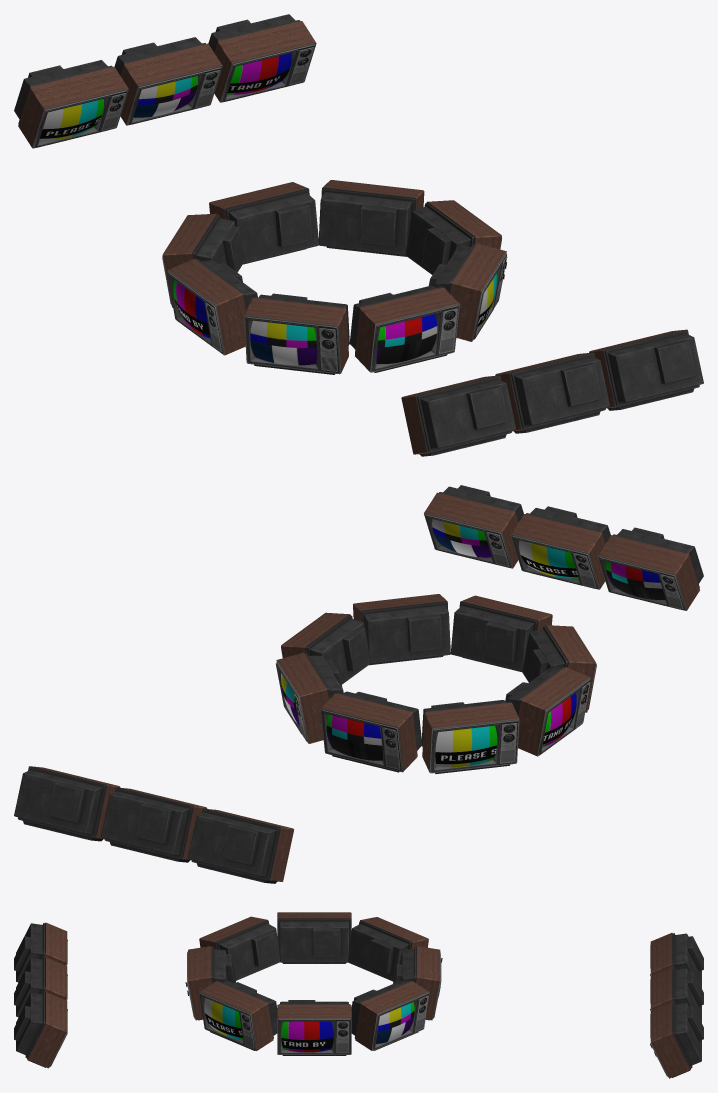
File: TVAssembly.fbx
3 renders of one model, top to bottom at view 1: azimuth 30°, elevation 25°; view 2: azimuth 150°, elevation 25°; view 3: azimuth 270°, elevation 25°, orthographic. The views are drawn at different scales.
Parts seen in each view (by area): view 1: TV_8, TV_2, TV_9, TV_10, TV_12, TV_5, TV_1, TV_7, TV_6, TV_11, TV, TV_13 (+8 smaller); view 2: TV_5, TV_3, TV_6, TV_7, TV_1, TV_8, TV_12, TV_9, TV_10, TV_4, TV, TV_13 (+8 smaller); view 3: TV, TV_7, TV_3, TV_2, TV_10, TV_4, TV_11, TV_13, TV_1, TV_12, TV_5, TV_6 (+5 smaller).
Boxes of the visible parts, box(x1,y1,x2,y2) form: TV_8: box(401, 375, 516, 456); TV_2: box(318, 180, 424, 256); TV_9: box(495, 352, 609, 433); TV_10: box(589, 329, 703, 410); TV_12: box(209, 182, 318, 264); TV_5: box(14, 60, 128, 148); TV_1: box(349, 285, 459, 372); TV_7: box(208, 14, 316, 102); TV_6: box(114, 37, 222, 125); TV_11: box(244, 293, 349, 374); TV: box(167, 258, 257, 355); TV_13: box(405, 200, 501, 274); TV_5: box(188, 808, 294, 883); TV_3: box(353, 594, 450, 665); TV_6: box(101, 787, 207, 862); TV_7: box(14, 766, 120, 841); TV_1: box(451, 595, 552, 671); TV_8: box(597, 527, 703, 610); TV_12: box(320, 691, 421, 772); TV_9: box(510, 506, 610, 589); TV_10: box(424, 485, 523, 568); TV_4: box(422, 700, 519, 773); TV: box(505, 667, 590, 756); TV_13: box(281, 612, 370, 684); TV: box(277, 912, 351, 963); TV_7: box(650, 1002, 703, 1078); TV_3: box(199, 981, 277, 1050); TV_2: box(351, 981, 429, 1050); TV_10: box(14, 992, 67, 1068); TV_4: box(348, 917, 428, 981); TV_11: box(199, 916, 279, 980); TV_13: box(277, 1000, 351, 1055); TV_1: box(185, 946, 235, 1020); TV_12: box(393, 946, 442, 1020); TV_5: box(650, 933, 703, 988); TV_6: box(650, 967, 703, 1022).
Size of the model in its own units: 349 by 63.59 by 787.
2 materials, 2 textured.
